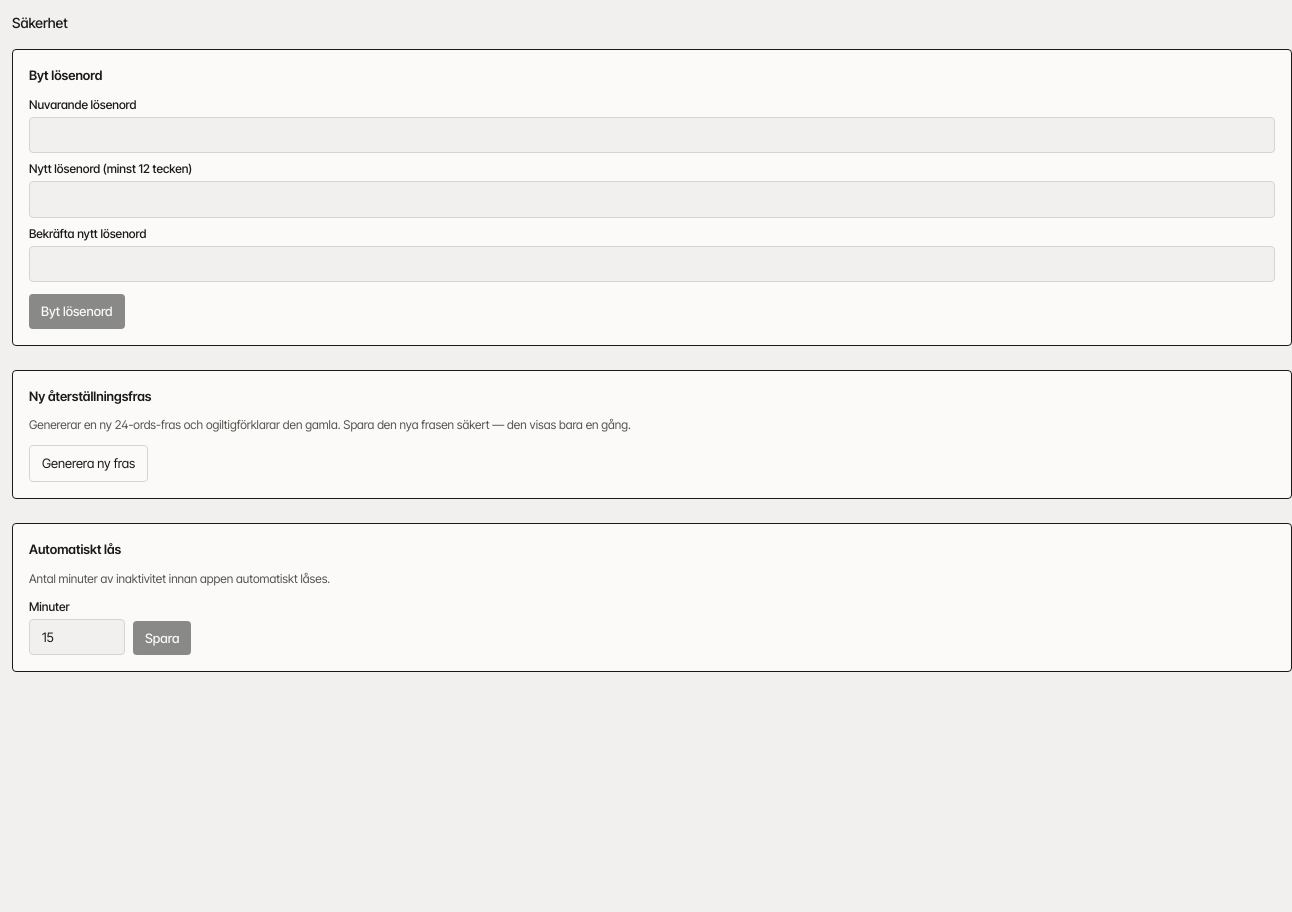
Test case: SecuritySection — change password › surfaces backend error (wrong old password)
Step 1. Type "wrong" into the password field with test id "settings-old-password" → (652, 135), box [29,117,1275,153]
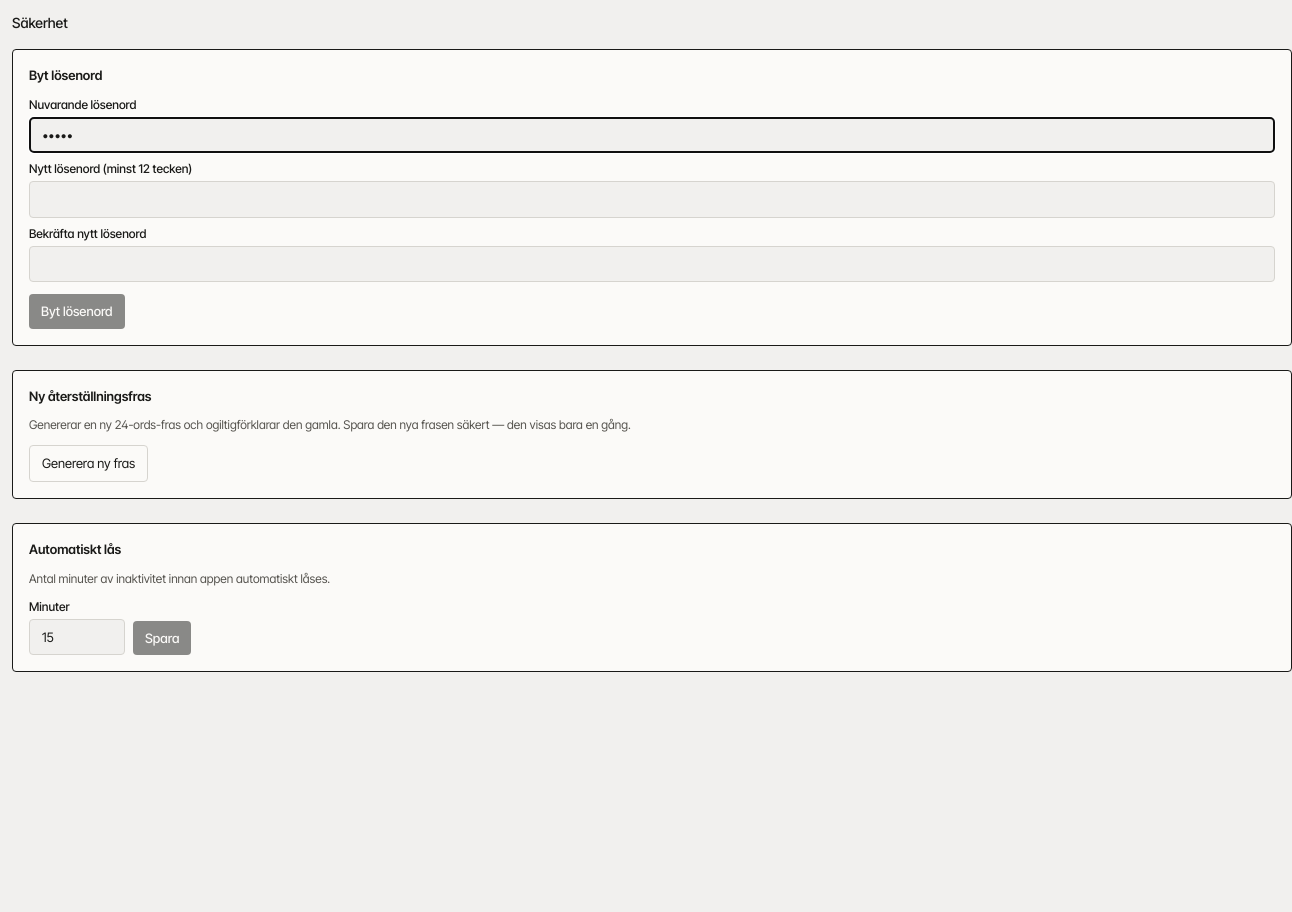
Step 2. Type "new-password-67890" into the password field with test id "settings-new-password" → (652, 199), box [29,181,1275,218]
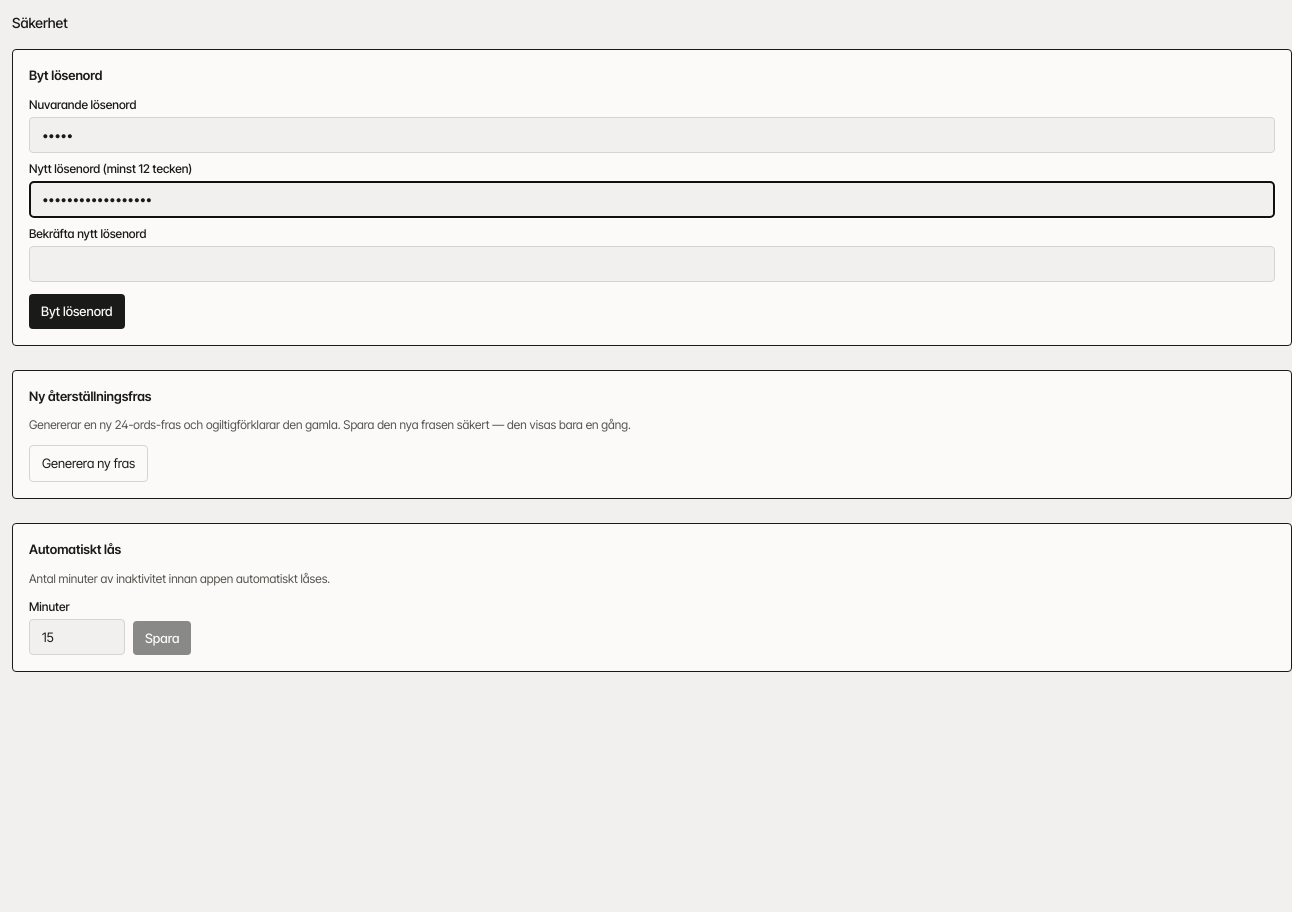
Step 3. Type "new-password-67890" into the password field with test id "settings-confirm-password" → (652, 264), box [29,246,1275,282]
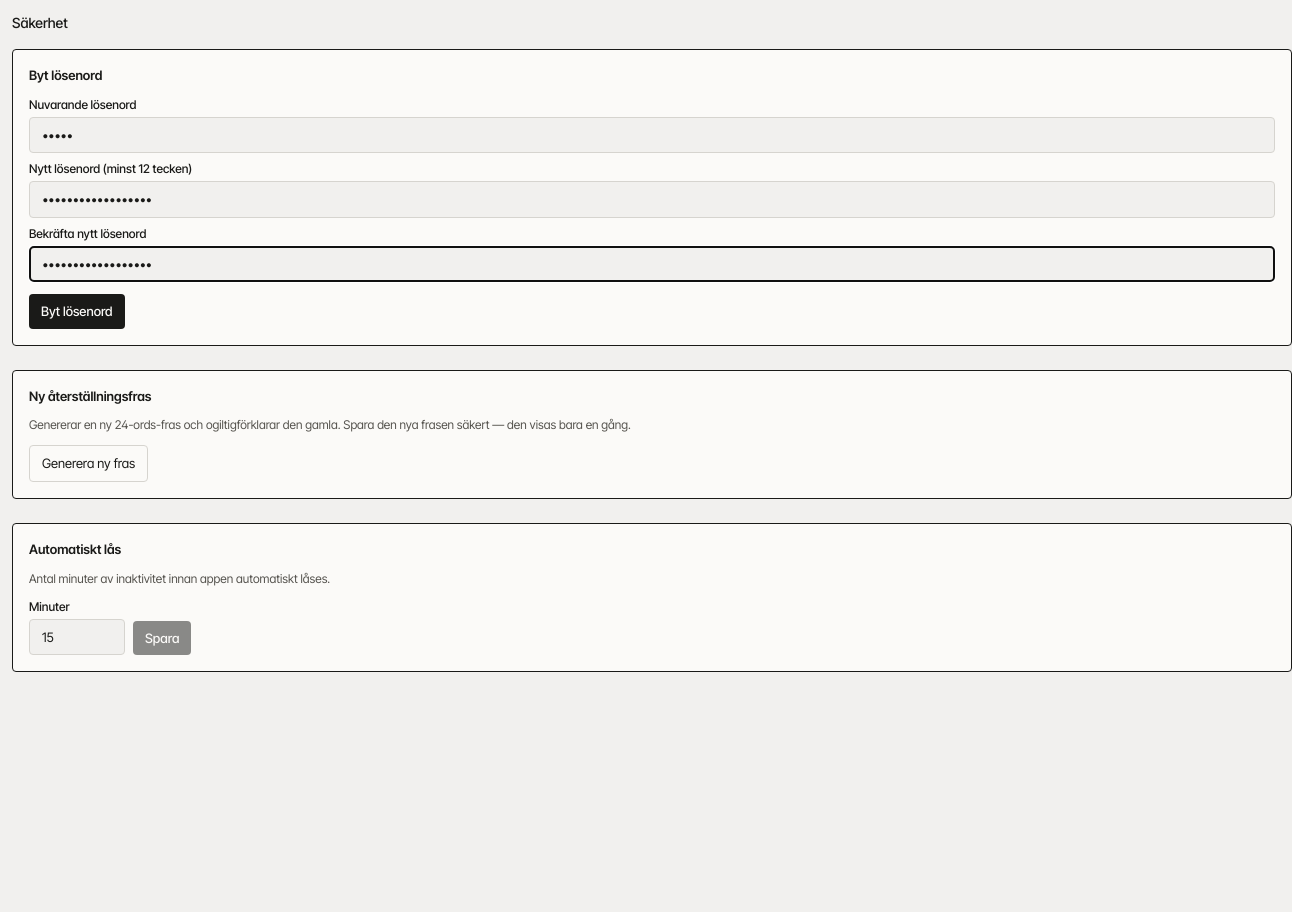
Step 4. Click the button with test id "settings-change-password-submit" → (77, 312), box [29,294,125,329]
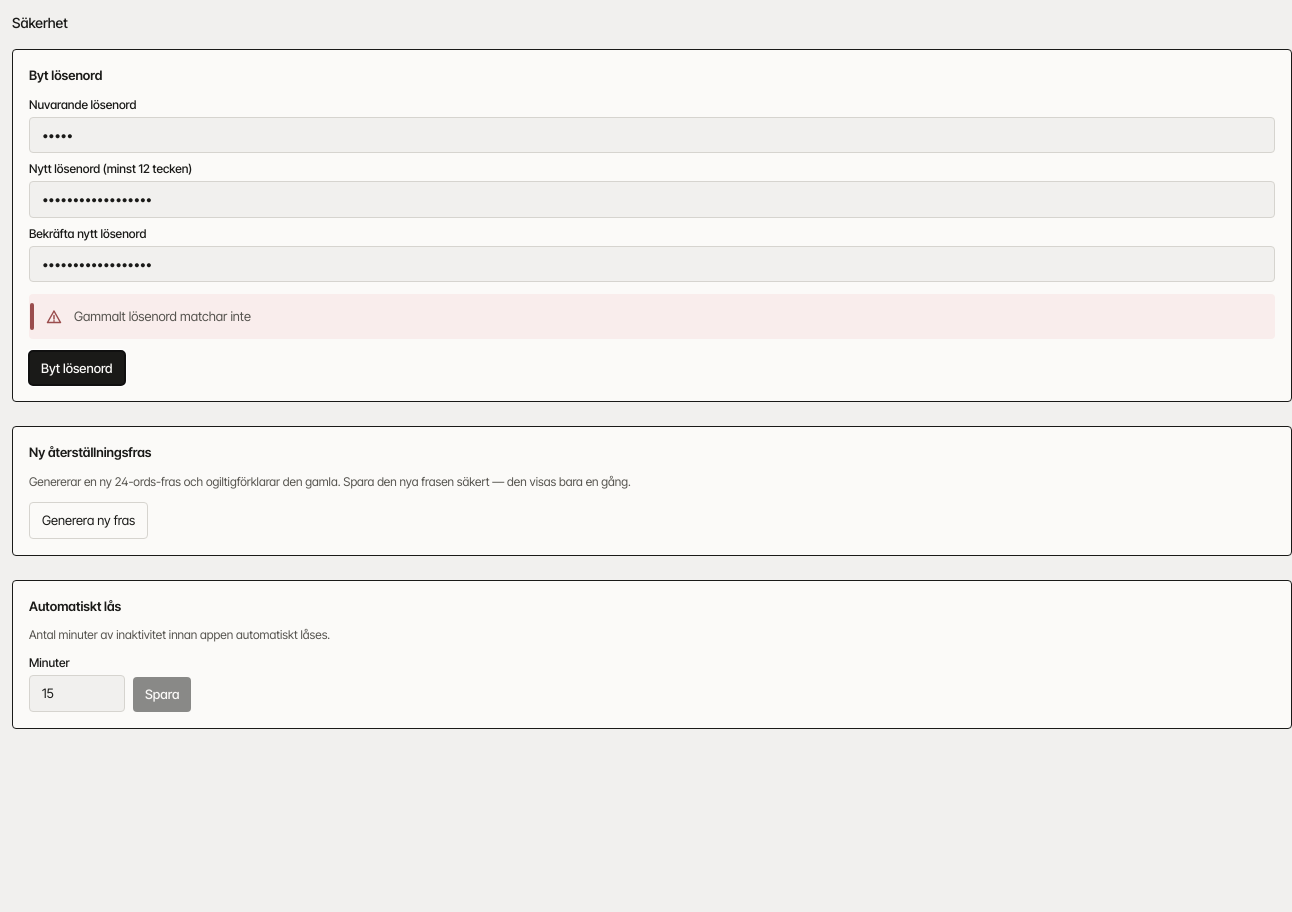
expect the message shows "matchar inte": met, box [74,308,251,324]
